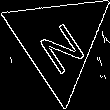N_NW: (30, 9, 87, 73)
